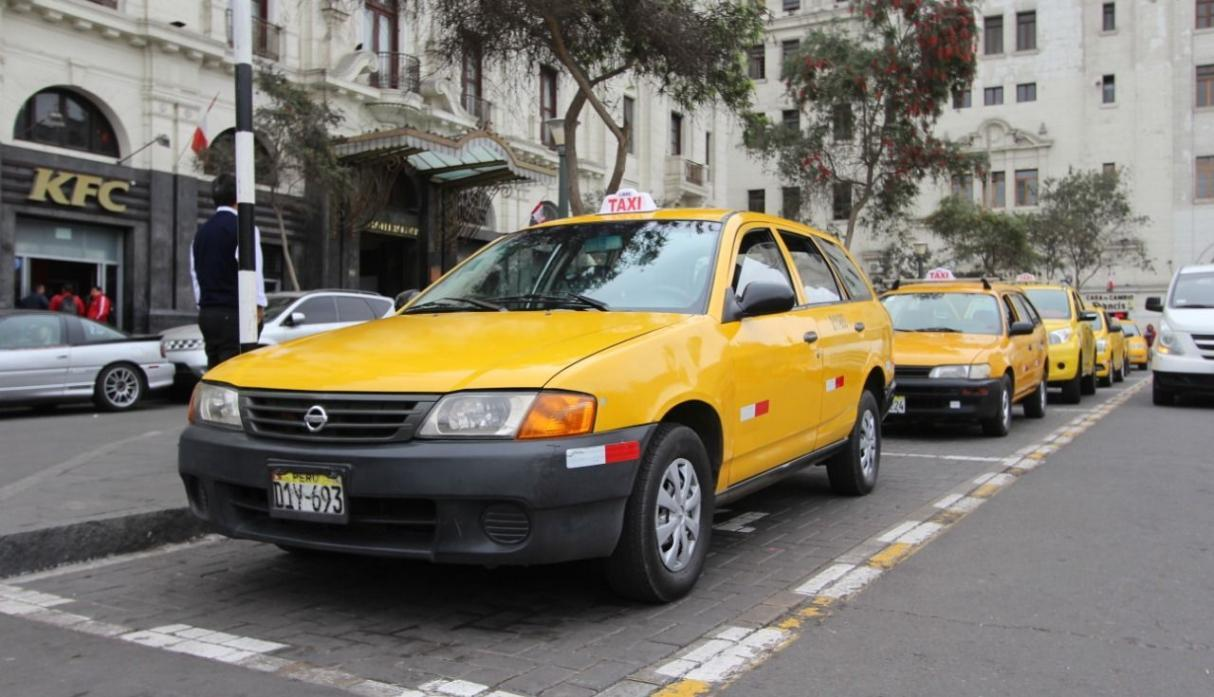taxi: (214, 161, 879, 590)
